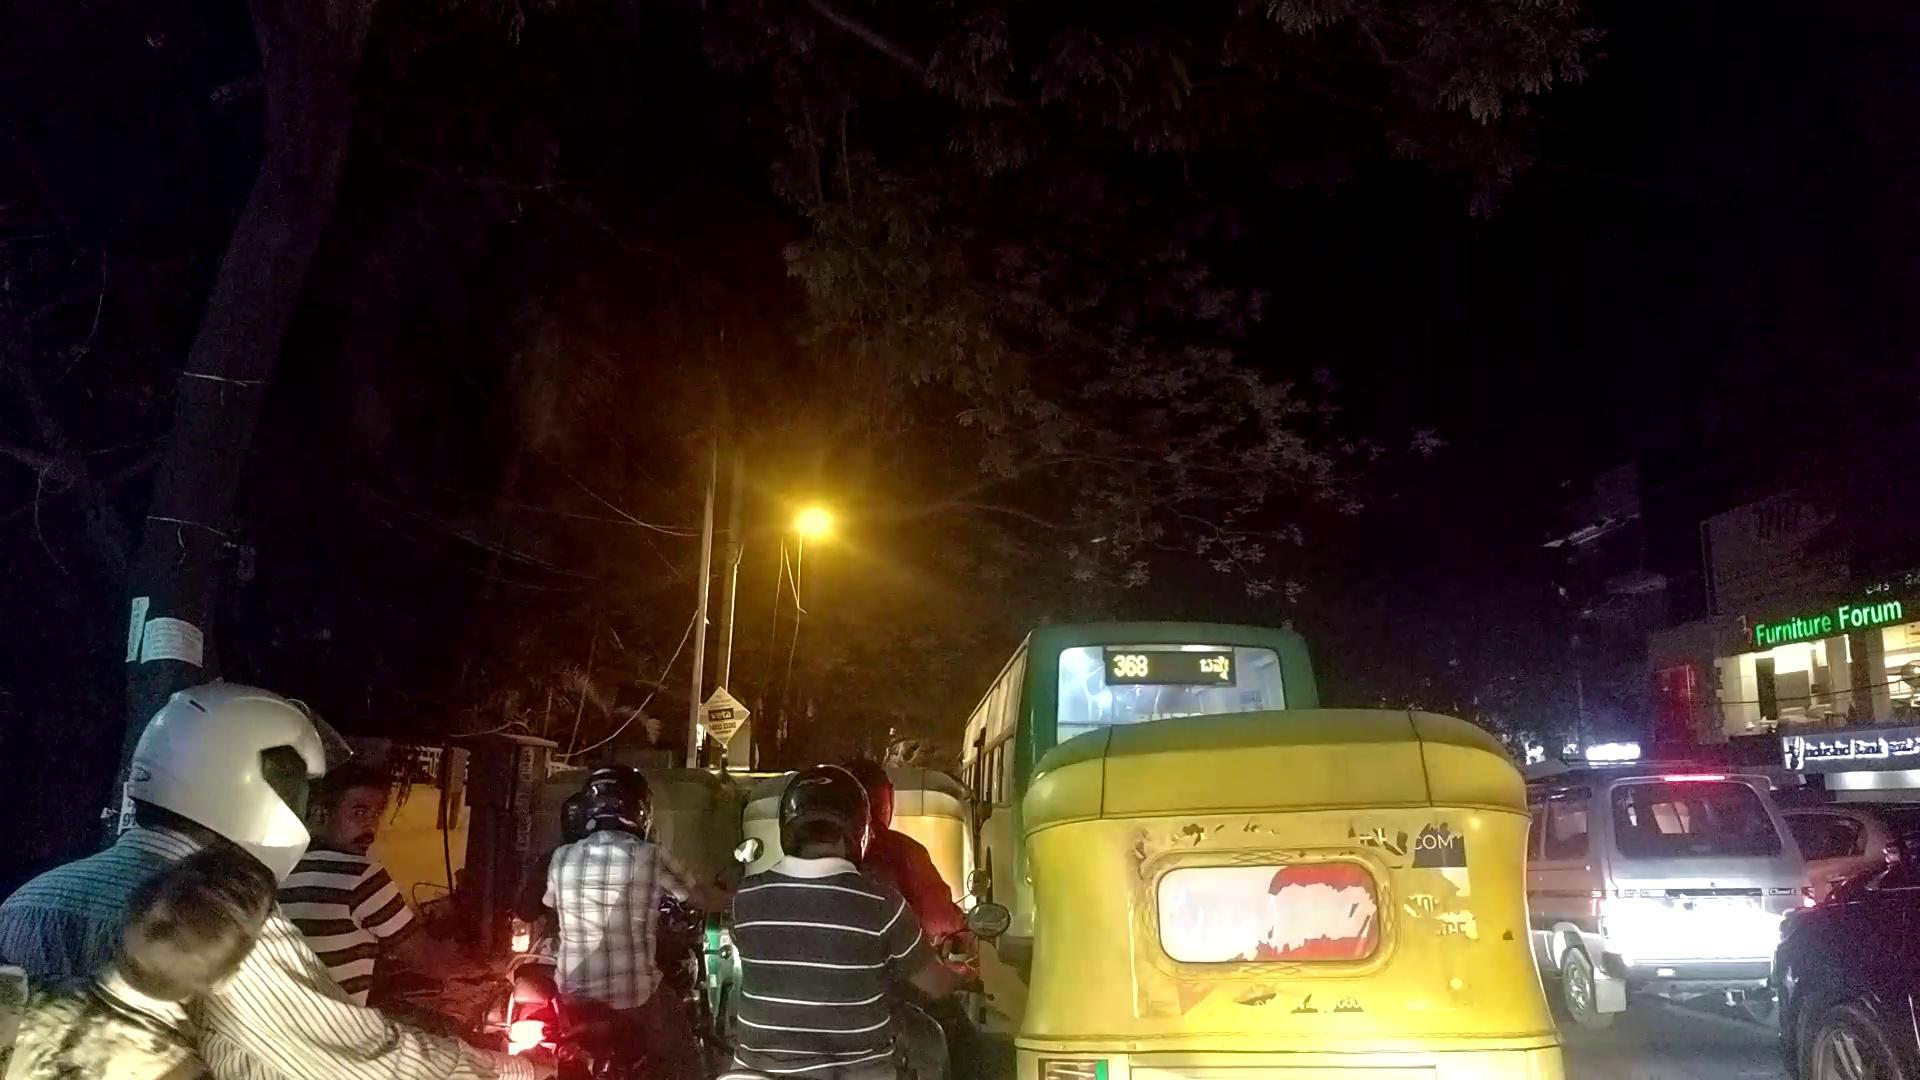on: (40, 42, 1920, 1080)
